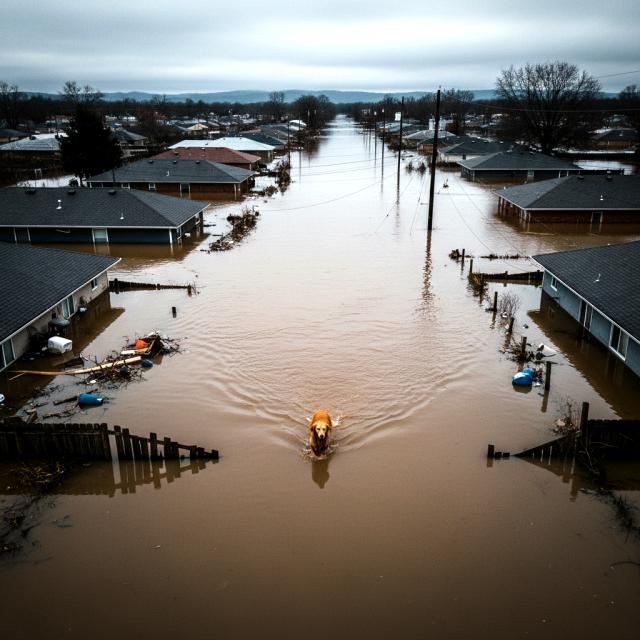dog: (304, 398, 340, 465)
